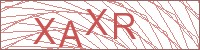A: (59, 20, 83, 48)
R: (112, 12, 138, 40)
X: (32, 17, 57, 45), (85, 8, 109, 36)
